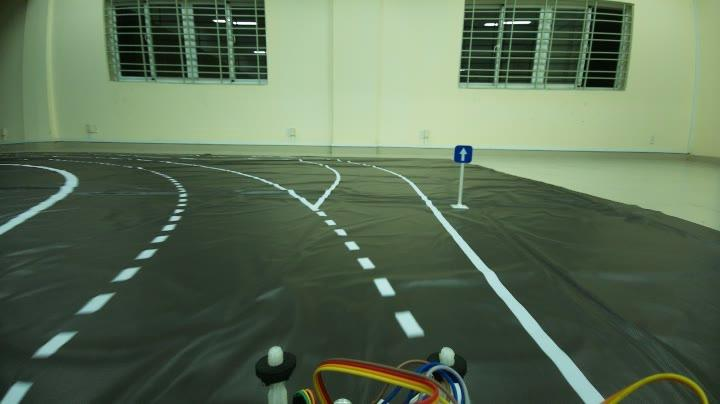onewayroad: (450, 142, 474, 166)
